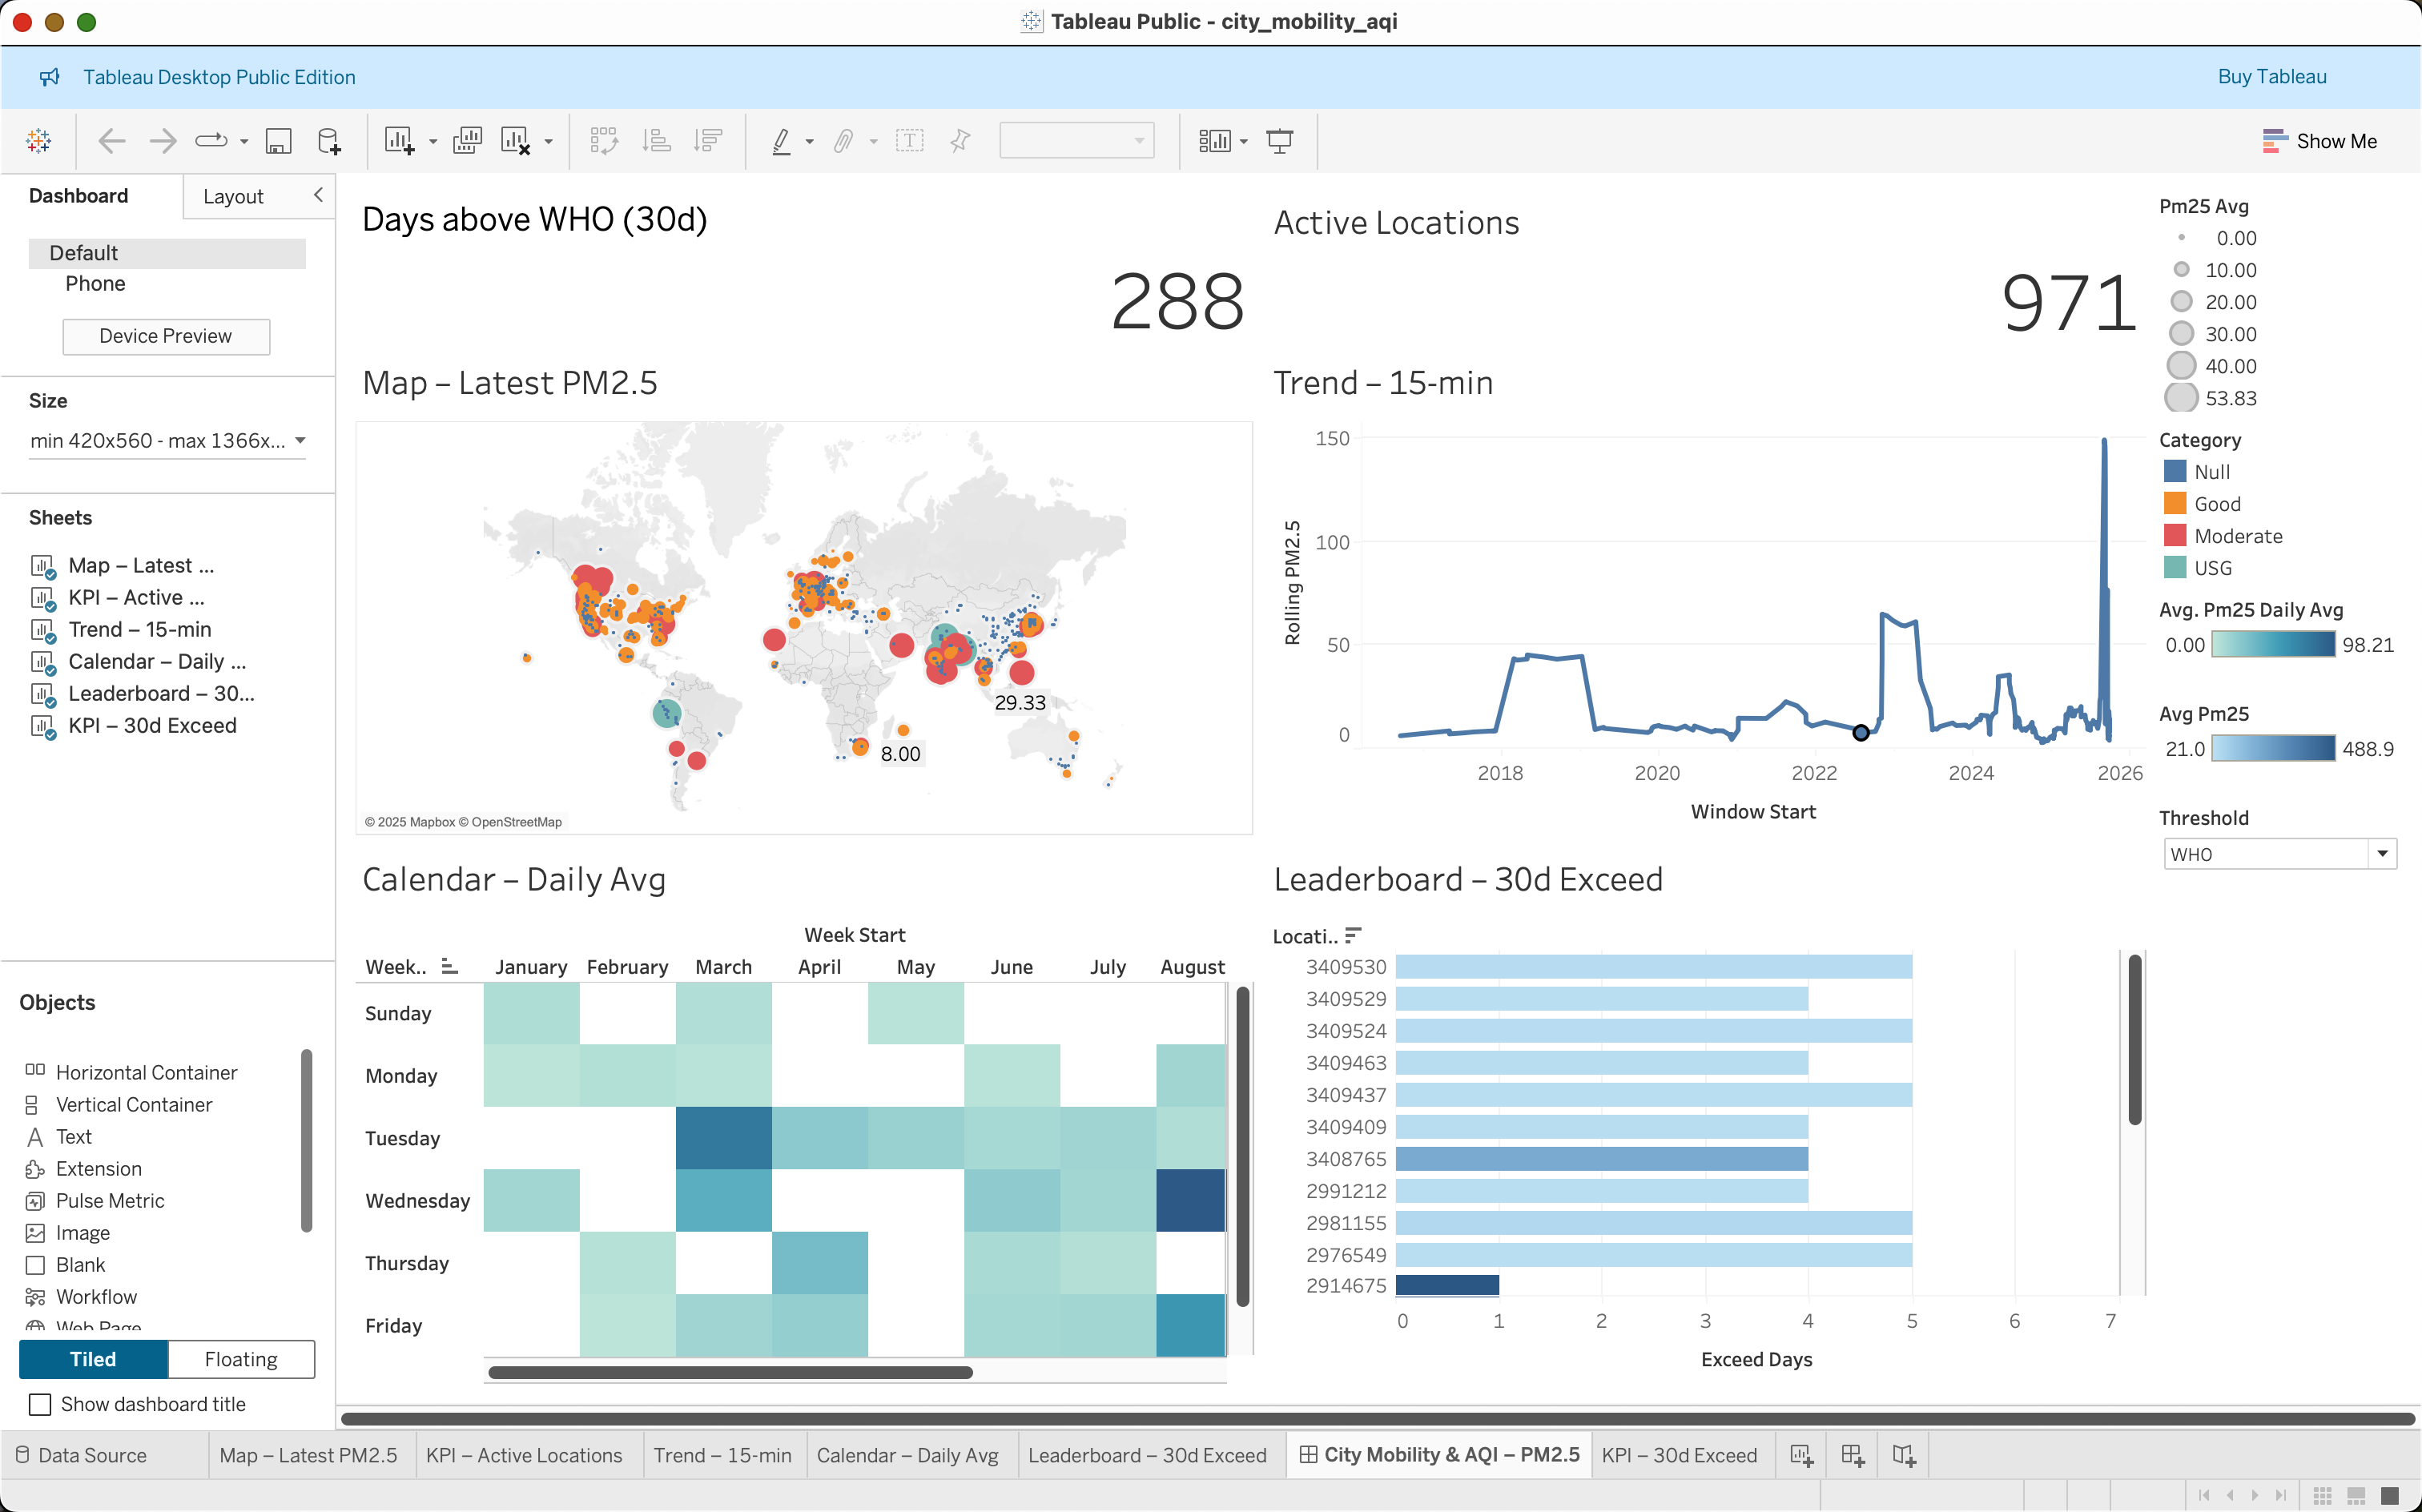

The page's visual inventory and layout, read from the dashboard file:
{"tool":"tableau","page":{"name":"City Mobility & AQI – PM2.5","canvas":[1000,1000],"units":"permille","ordinal":0},"visuals":[{"type":"worksheet","title":"KPI – 30d Exceed","mark":"Automatic","box":[6.1,10.4,437,130.2]},{"type":"worksheet","title":"KPI – Active Locations","mark":"Automatic","box":[443.2,10.4,427.8,130.2]},{"type":"legend","title":"Map – Latest PM2.5","param":"[federated.0gg45nd19x81r512xamz012v458o].[sum:pm25_avg:qk]","box":[871,10.4,122.9,190.1]},{"type":"worksheet","title":"Map – Latest PM2.5","mark":"Circle","rows":["lat"],"cols":["lon"],"box":[6.1,140.6,437,403.6]},{"type":"worksheet","title":"Trend – 15-min","mark":"Automatic","rows":["Calculation_3835237350702157824"],"cols":["window_start"],"box":[443.2,140.6,427.8,403.6]},{"type":"legend","title":"Map – Latest PM2.5","param":"[federated.0gg45nd19x81r512xamz012v458o].[none:category:nk]","box":[871,200.5,122.9,138]},{"type":"legend","title":"Calendar – Daily Avg","param":"[federated.024ljxn1pza372123gfvt15ciucp].[avg:pm25_daily_avg:qk]","box":[871,338.6,122.9,84.6]},{"type":"legend","title":"Leaderboard – 30d Exceed","param":"[federated.0qddxql0sv2lc51d3m21u1mjqcae].[sum:avg_pm25:qk]","box":[871,423.2,122.9,84.6]},{"type":"parameter","param":"[Parameters].[Parameter 2]","box":[871,507.8,122.9,67.7]},{"type":"worksheet","title":"Calendar – Daily Avg","mark":"Square","rows":["Calculation_3835237350702899202"],"cols":["Calculation_3835237350702821377"],"box":[6.1,544.3,437,445.3]},{"type":"worksheet","title":"Leaderboard – 30d Exceed","mark":"Automatic","rows":["location_id"],"cols":["Calculation_4106931071975481346"],"box":[443.2,544.3,427.8,445.3]}]}

Visuals, with their boxes on the dashboard's canvas, which has no fixed pixel size, in thousandths of its width and height (x1, y1, x2, y2). These are canvas units, not pixel positions in the 2422x1512 screenshot, which may show the page scaled, cropped or inside an application window:
"KPI – 30d Exceed" worksheet: [6,10,443,141]
"KPI – Active Locations" worksheet: [443,10,871,141]
"Map – Latest PM2.5" legend: [871,10,994,200]
"Map – Latest PM2.5" worksheet (Circle marks): [6,141,443,544]
"Trend – 15-min" worksheet: [443,141,871,544]
"Map – Latest PM2.5" legend: [871,200,994,338]
"Calendar – Daily Avg" legend: [871,339,994,423]
"Leaderboard – 30d Exceed" legend: [871,423,994,508]
parameter: [871,508,994,576]
"Calendar – Daily Avg" worksheet (Square marks): [6,544,443,990]
"Leaderboard – 30d Exceed" worksheet: [443,544,871,990]
